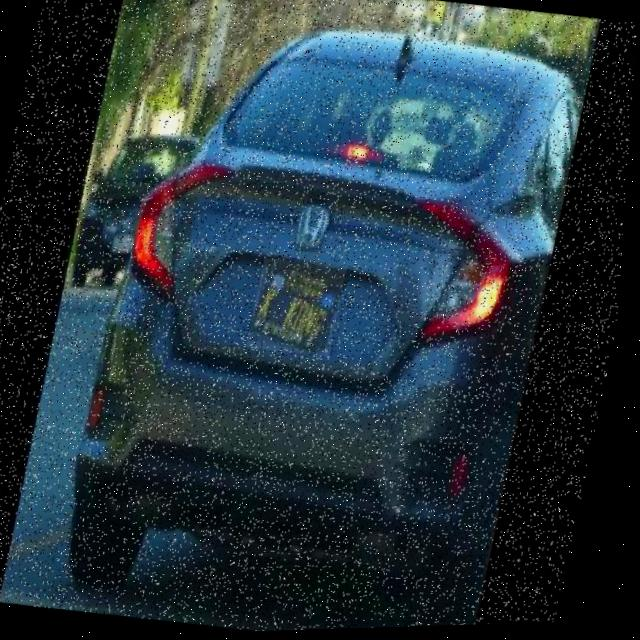LicensePlate: (250, 258, 352, 360)
